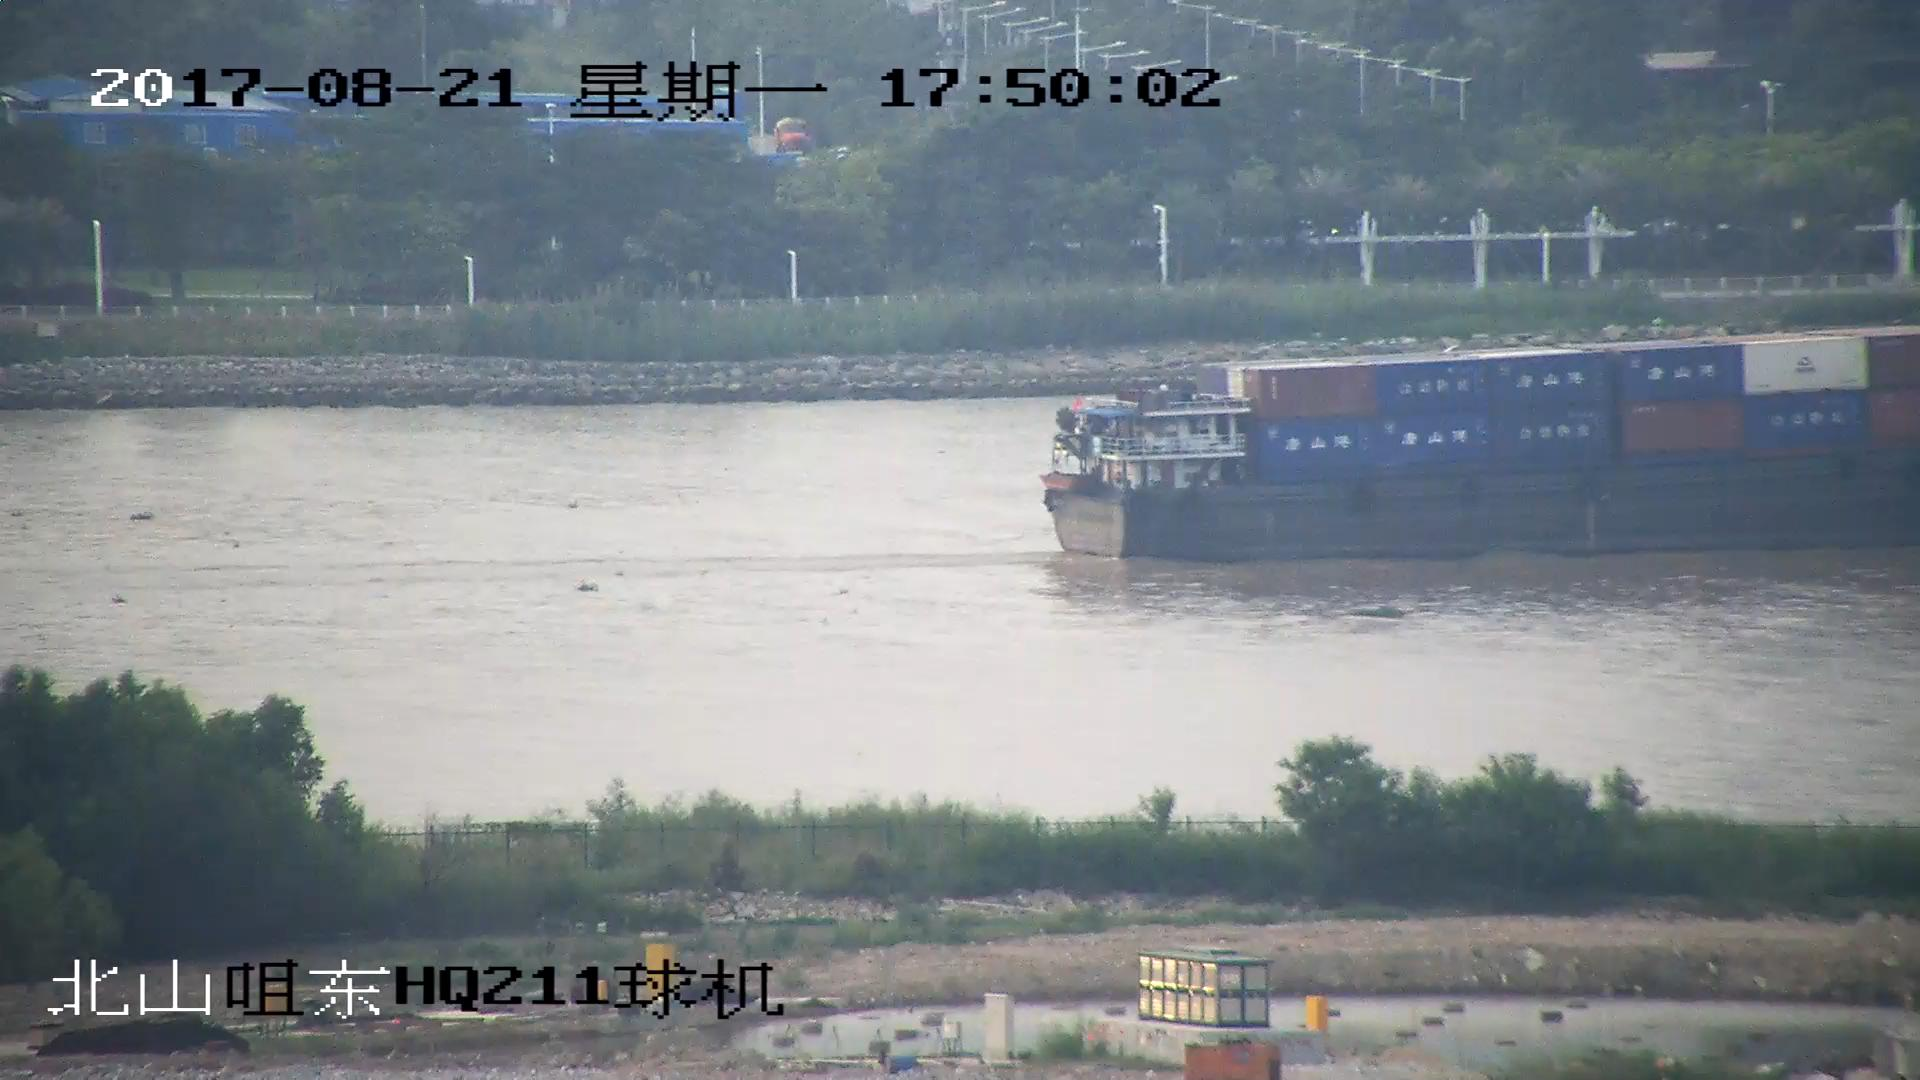container ship: (1046, 330, 1920, 559)
